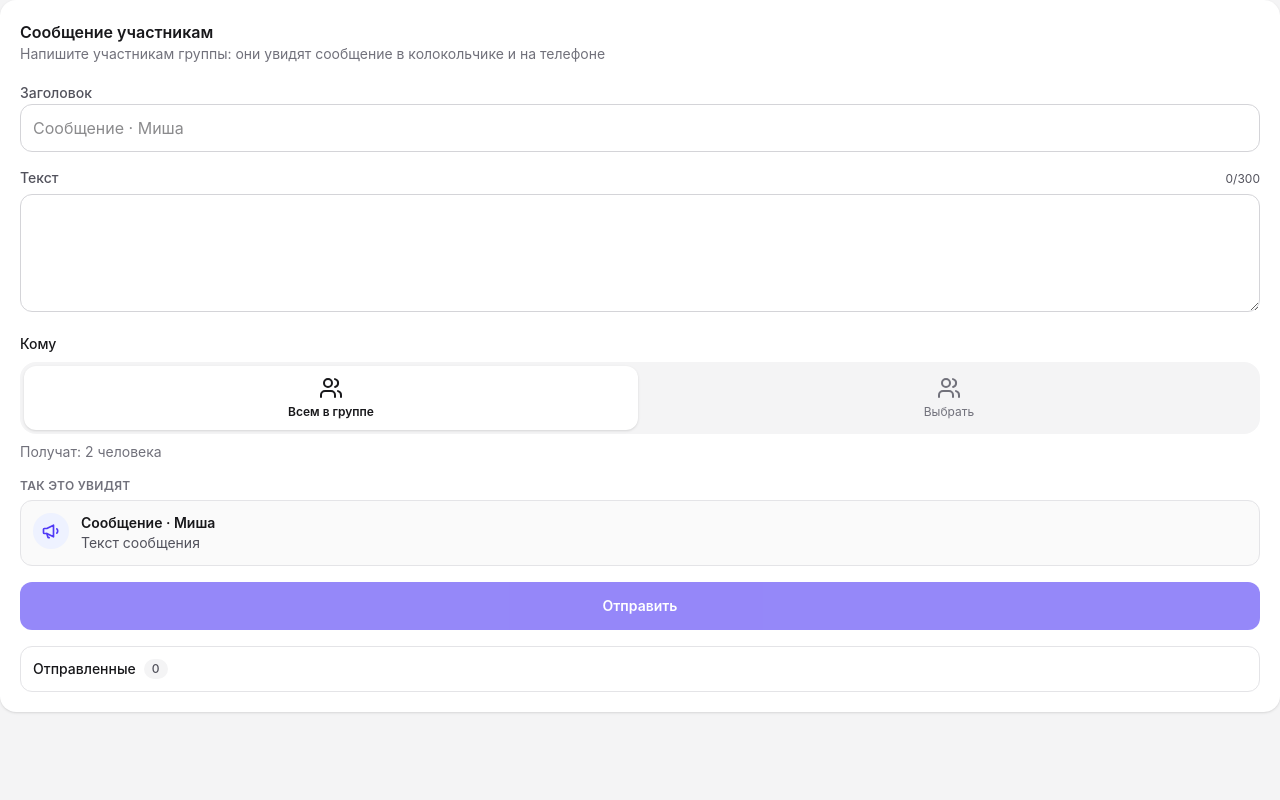
карточка владельца › всем в группе: подтверждение с числом, тело {type:group}, тост и очистка формы
Type "Привет" into the text box labelled "Текст".
click(640, 253); type("Привет")  # box x1=20 y1=194 x2=1260 y2=312
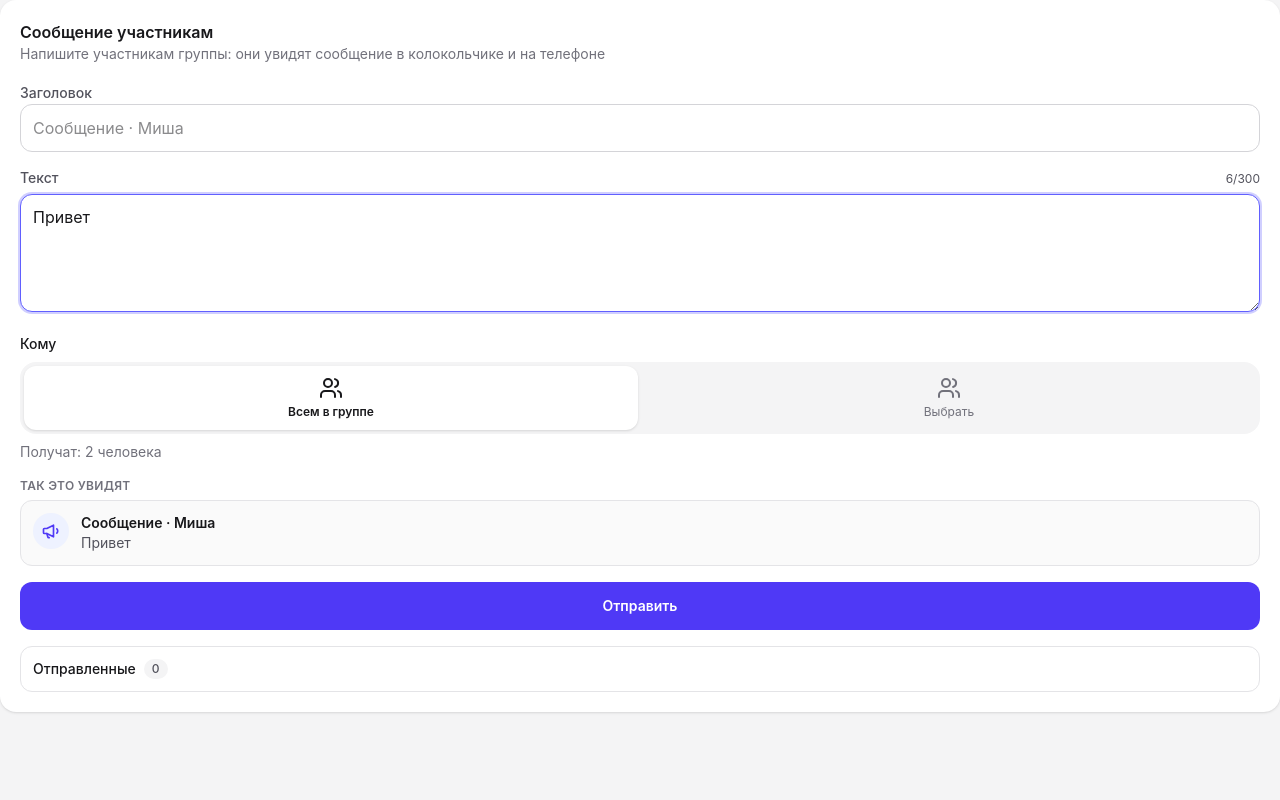
Click the button "Отправить".
click(640, 606)  # box x1=20 y1=582 x2=1260 y2=630
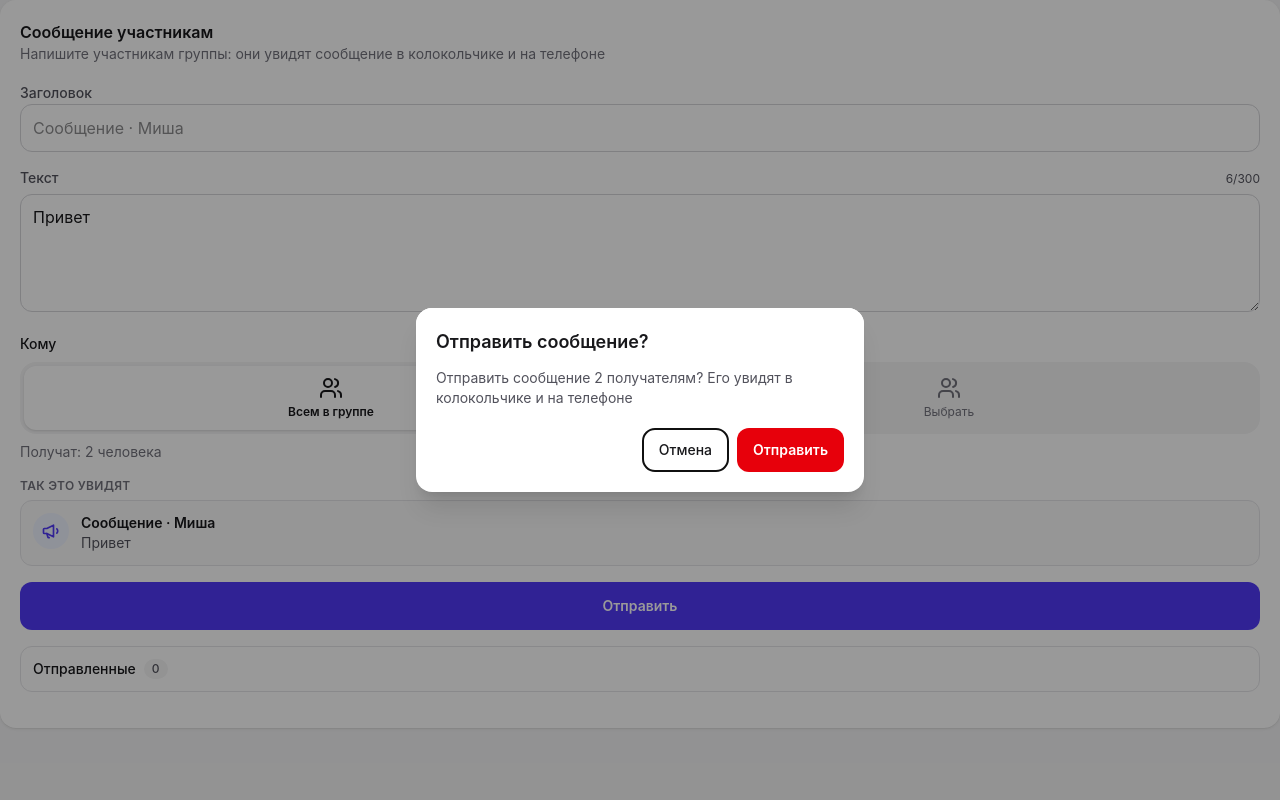
Result: the text "Отправить сообщение 2 получателям? Его увидят в колокольчике и на телефоне" is shown at x1=436 y1=368 x2=844 y2=408
Click the button "Отправить".
click(790, 450)  # box x1=737 y1=428 x2=844 y2=472
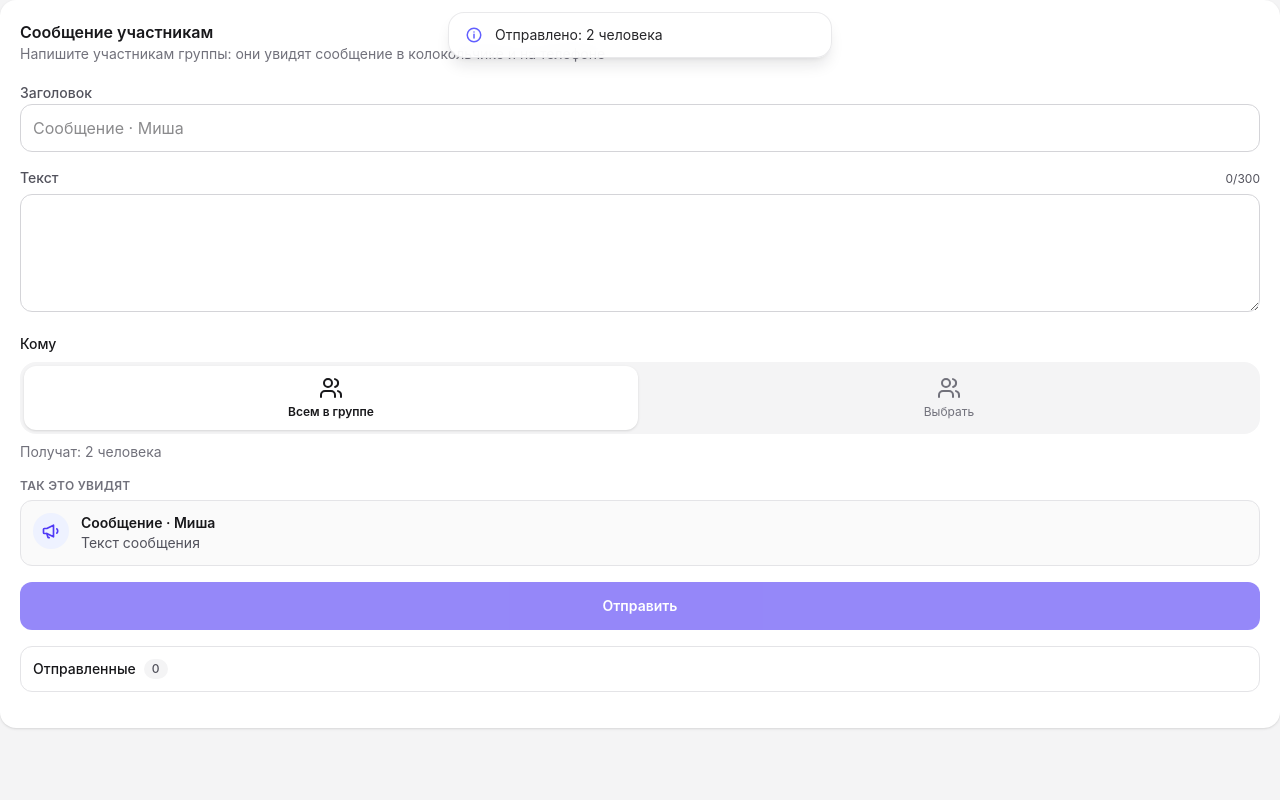
Result: the text "Отправлено: 2 человека" is shown at x1=448 y1=12 x2=832 y2=58
Result: the text box labelled "Текст" is empty at x1=20 y1=194 x2=1260 y2=312
